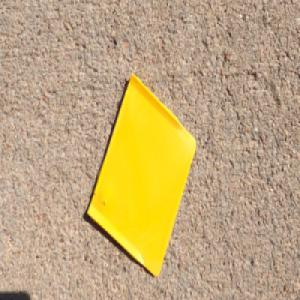PlasticPart: (86, 71, 196, 279)
